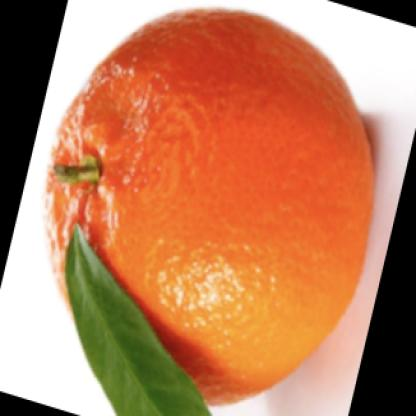fresh: (41, 7, 371, 403)
